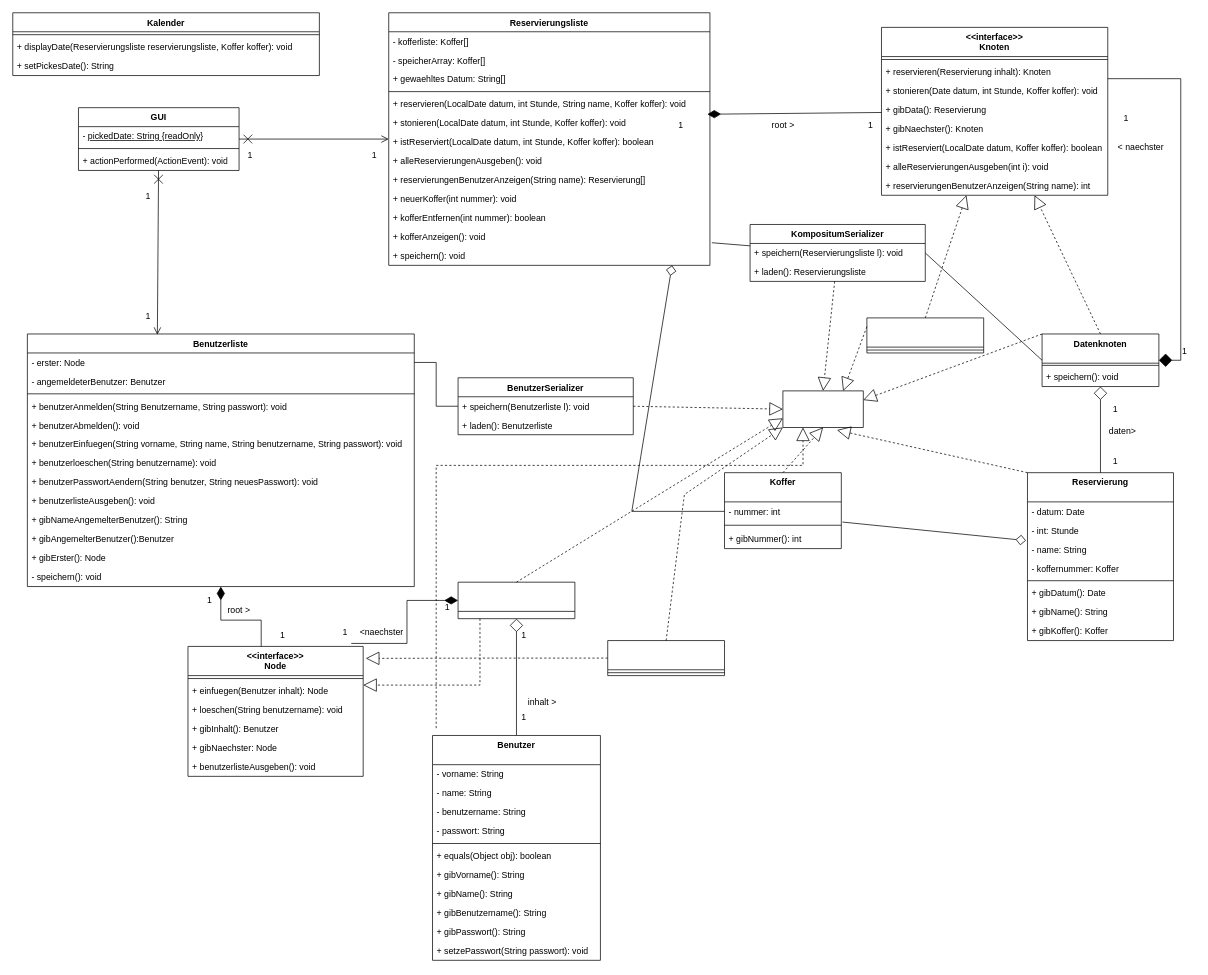
Some shapes in this 1208 by 975 pixel diagram are drawn without their labels. The centre of each missing label's shape, as x and y in pixels:
DataNode: the point at 516,600
Endknoten: the point at 925,335
EndNode: the point at 666,658
«interface» Serializable: the point at 822,408
